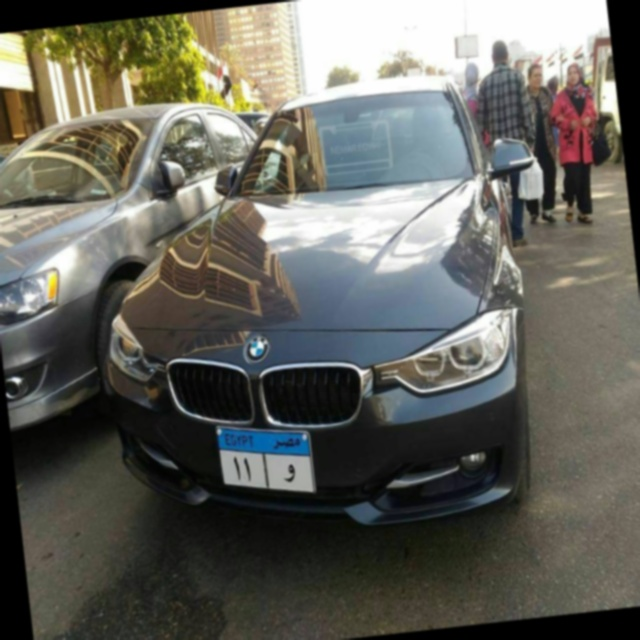License Plate: (210, 408, 320, 508)
